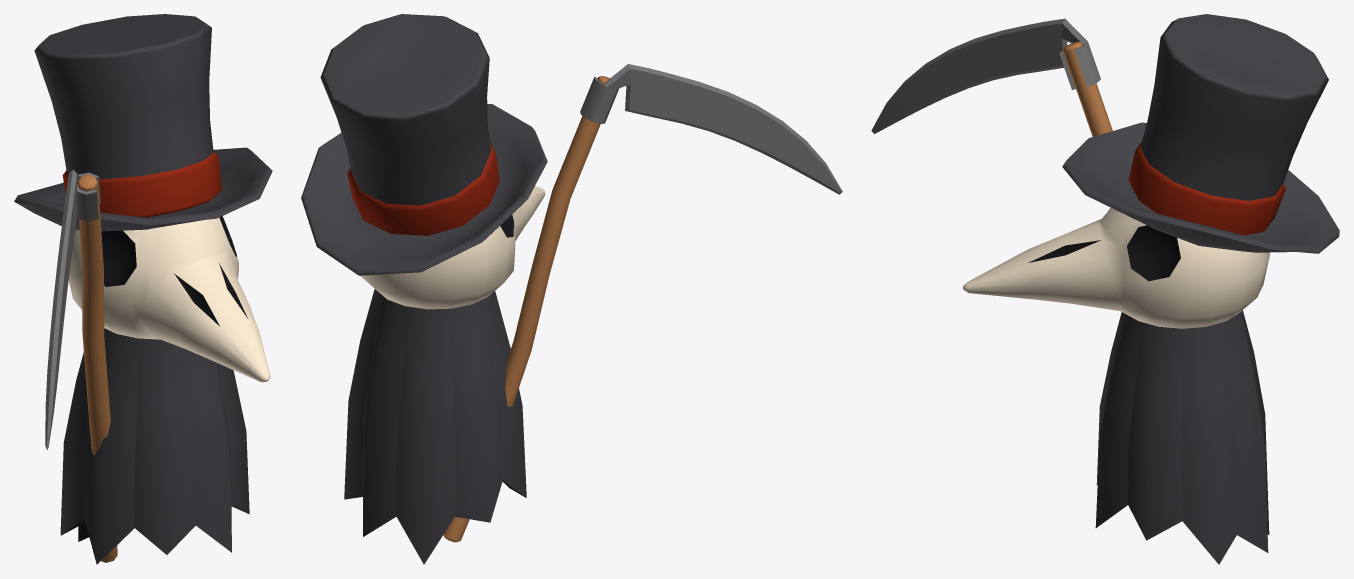
The model's file is assembled_character_1.gltf.glb.
The picture shows the model from 3 angles, left to right: view 1: azimuth 30°, elevation 25°; view 2: azimuth 150°, elevation 25°; view 3: azimuth 270°, elevation 25°; orthographic projection. The views are drawn at different scales.
Parts seen in each view (by area): view 1: Top_Hat, Ghost_2, Bird_Skull, Scythe; view 2: Top_Hat, Ghost_2, Scythe, Bird_Skull; view 3: Top_Hat, Ghost_2, Bird_Skull, Scythe.
Boxes of the visible parts, x1=… form: Top_Hat: x1=14, y1=14, x2=272, y2=231; Ghost_2: x1=60, y1=328, x2=249, y2=564; Bird_Skull: x1=68, y1=216, x2=270, y2=382; Scythe: x1=45, y1=170, x2=117, y2=562; Top_Hat: x1=301, y1=14, x2=547, y2=275; Ghost_2: x1=344, y1=289, x2=526, y2=564; Scythe: x1=443, y1=64, x2=842, y2=542; Bird_Skull: x1=360, y1=186, x2=545, y2=309; Top_Hat: x1=1062, y1=14, x2=1339, y2=253; Ghost_2: x1=1095, y1=310, x2=1269, y2=564; Bird_Skull: x1=963, y1=208, x2=1269, y2=328; Scythe: x1=871, y1=18, x2=1112, y2=136.
Size of the model in its own units: 0.4386 by 0.5874 by 0.4826.
2 materials, 1 textured.
